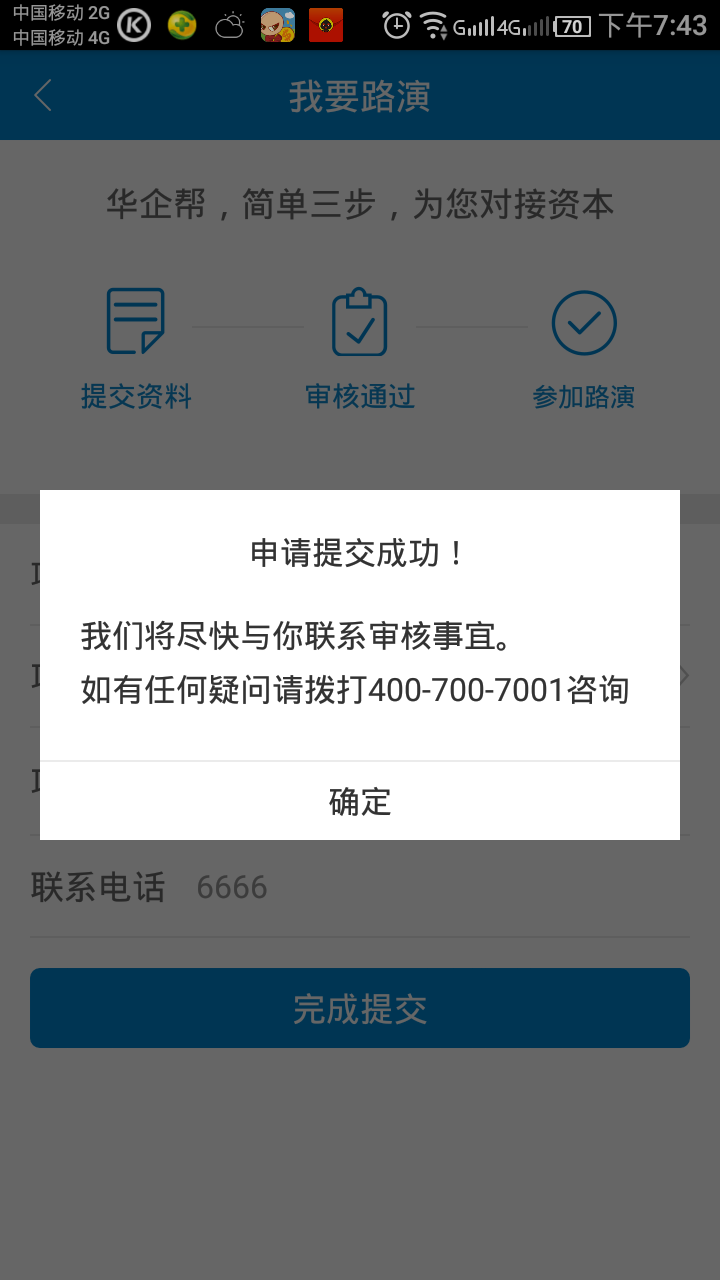alert: (29, 480, 697, 861)
button: (36, 757, 683, 845)
